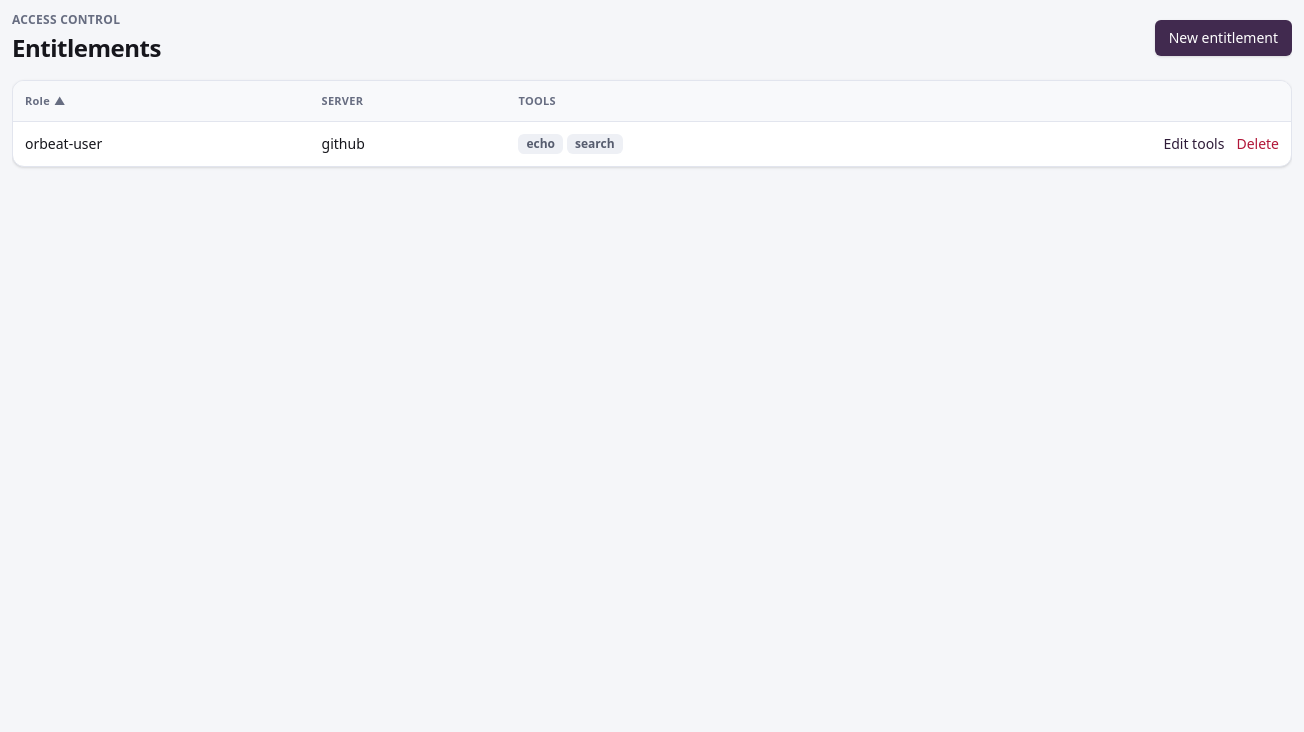
Test: a successful save tells the user, through the real provider
Check: the text "github" is shown, box [310,121,506,166]
Click the button "Edit tools" at (1194, 144), box [1163,134,1224,154]
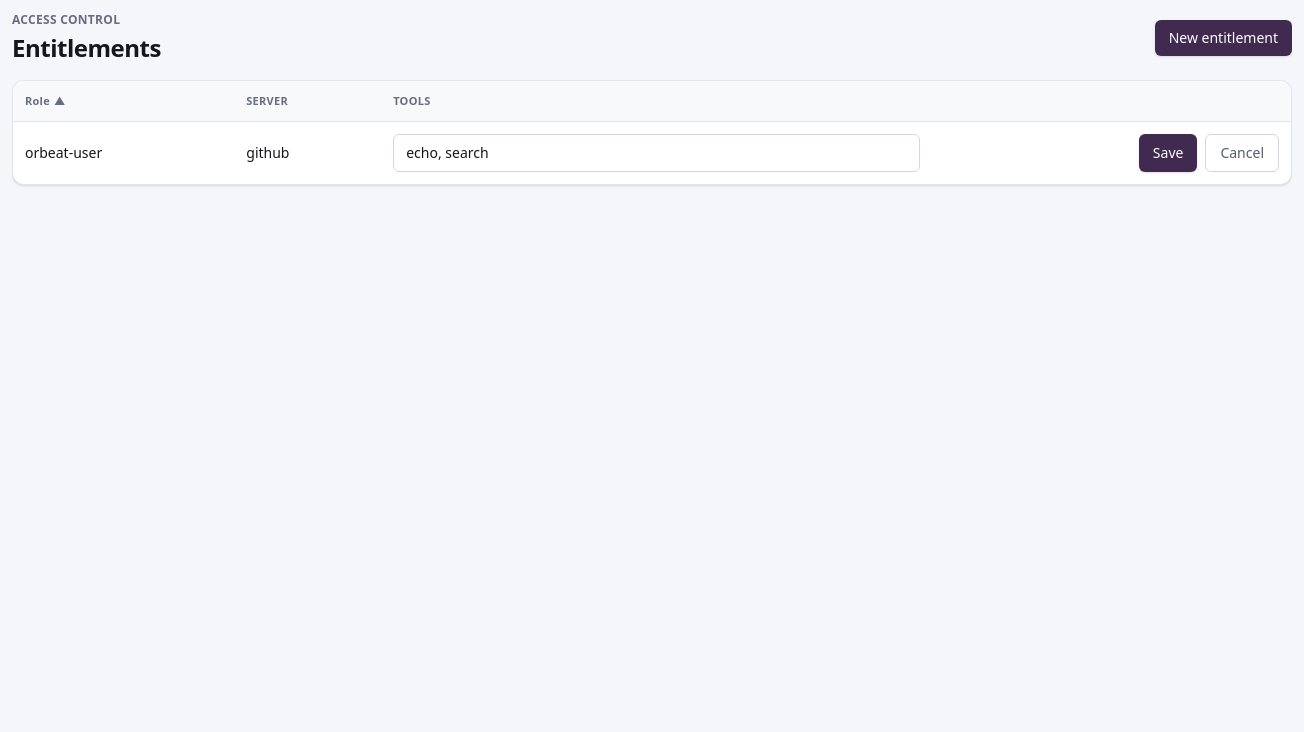
Click the button "Save" at (1168, 153), box [1139,134,1197,172]
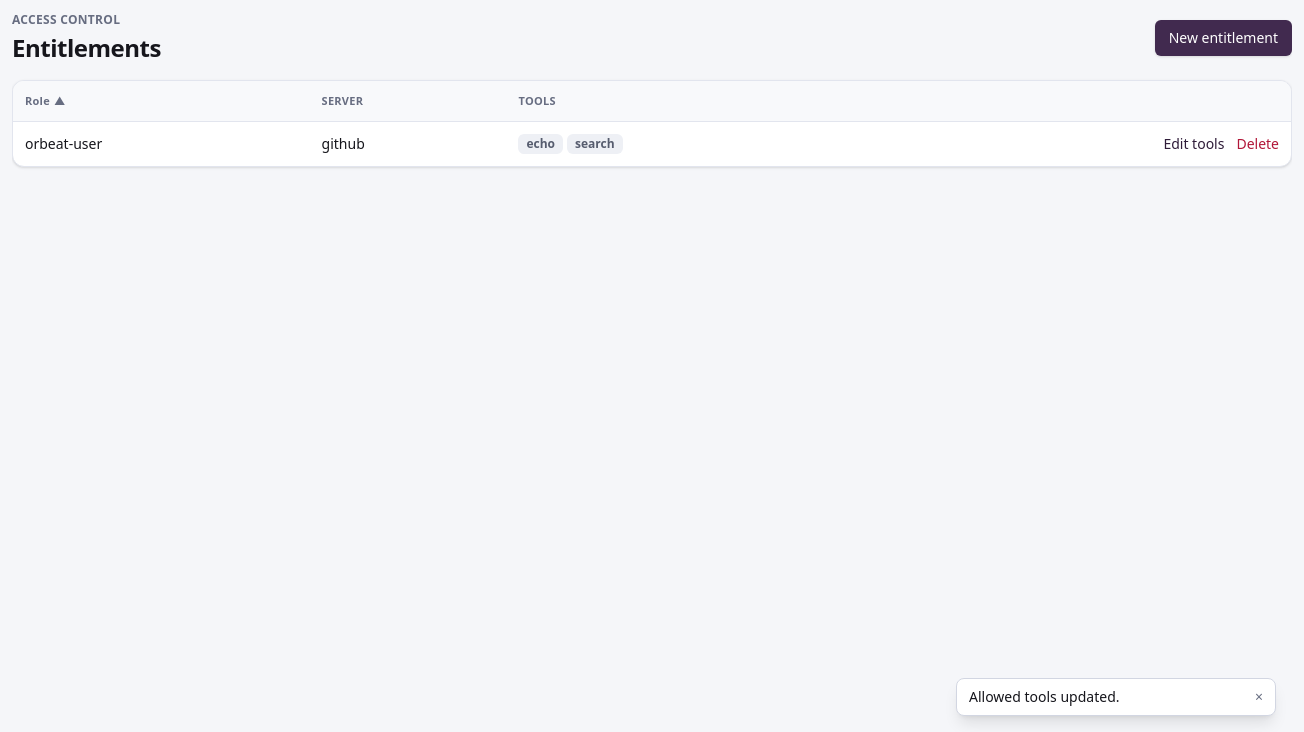
Check: the message shows "Allowed tools updated.", box [969,687,1120,706]
